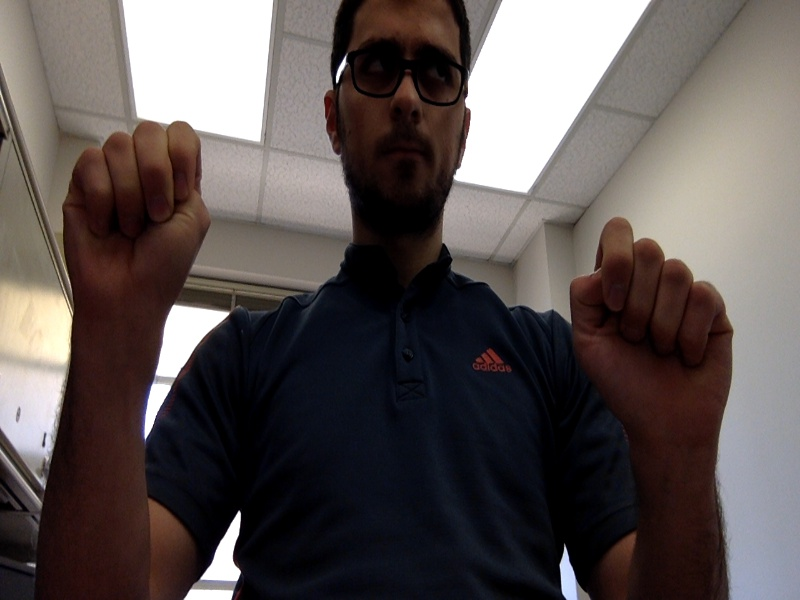0-hand: (571, 220, 732, 456), (65, 122, 209, 330)
